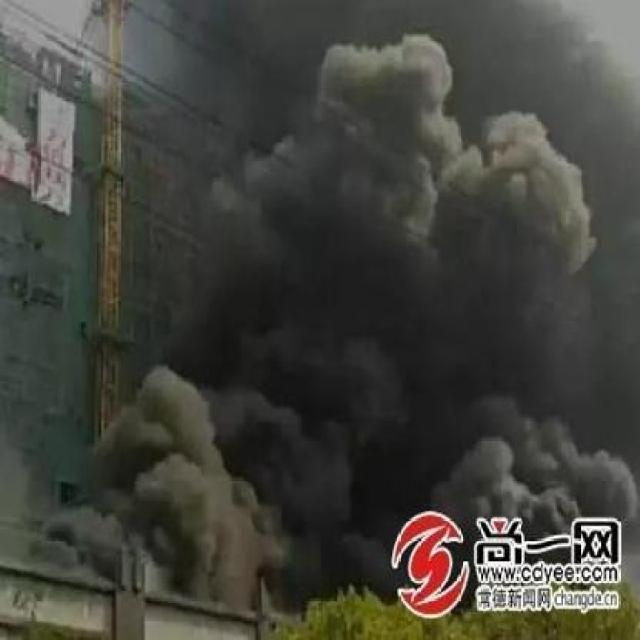Smoke: (72, 2, 640, 558)
